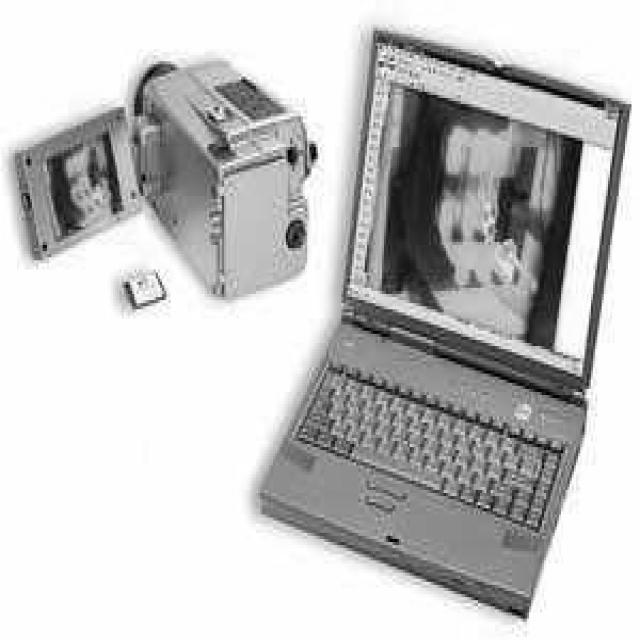laptop: (269, 19, 640, 604)
